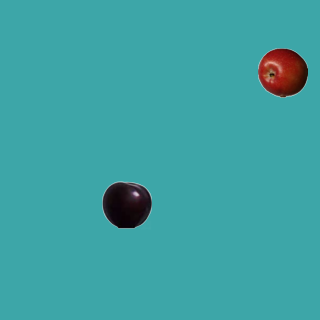Apple Braeburn: (257, 47, 307, 97)
Cherry Wax Black: (101, 179, 151, 229)
